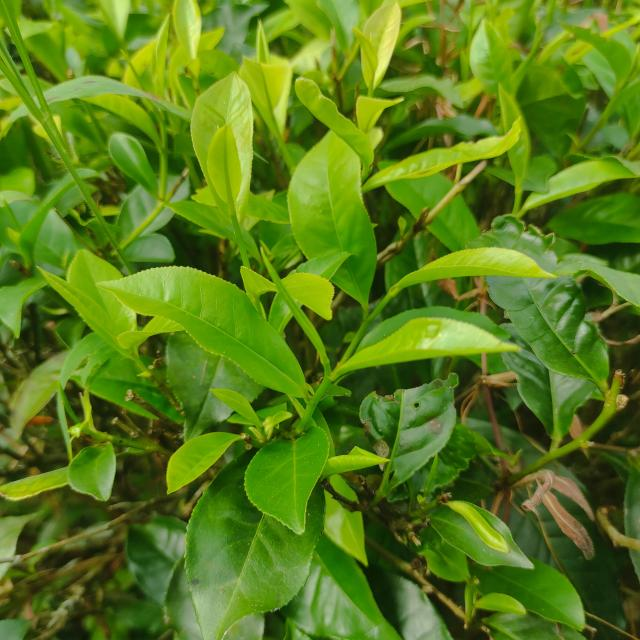unopened_leaf: (252, 239, 333, 371), (118, 44, 166, 126), (417, 445, 449, 514), (56, 378, 84, 432)
